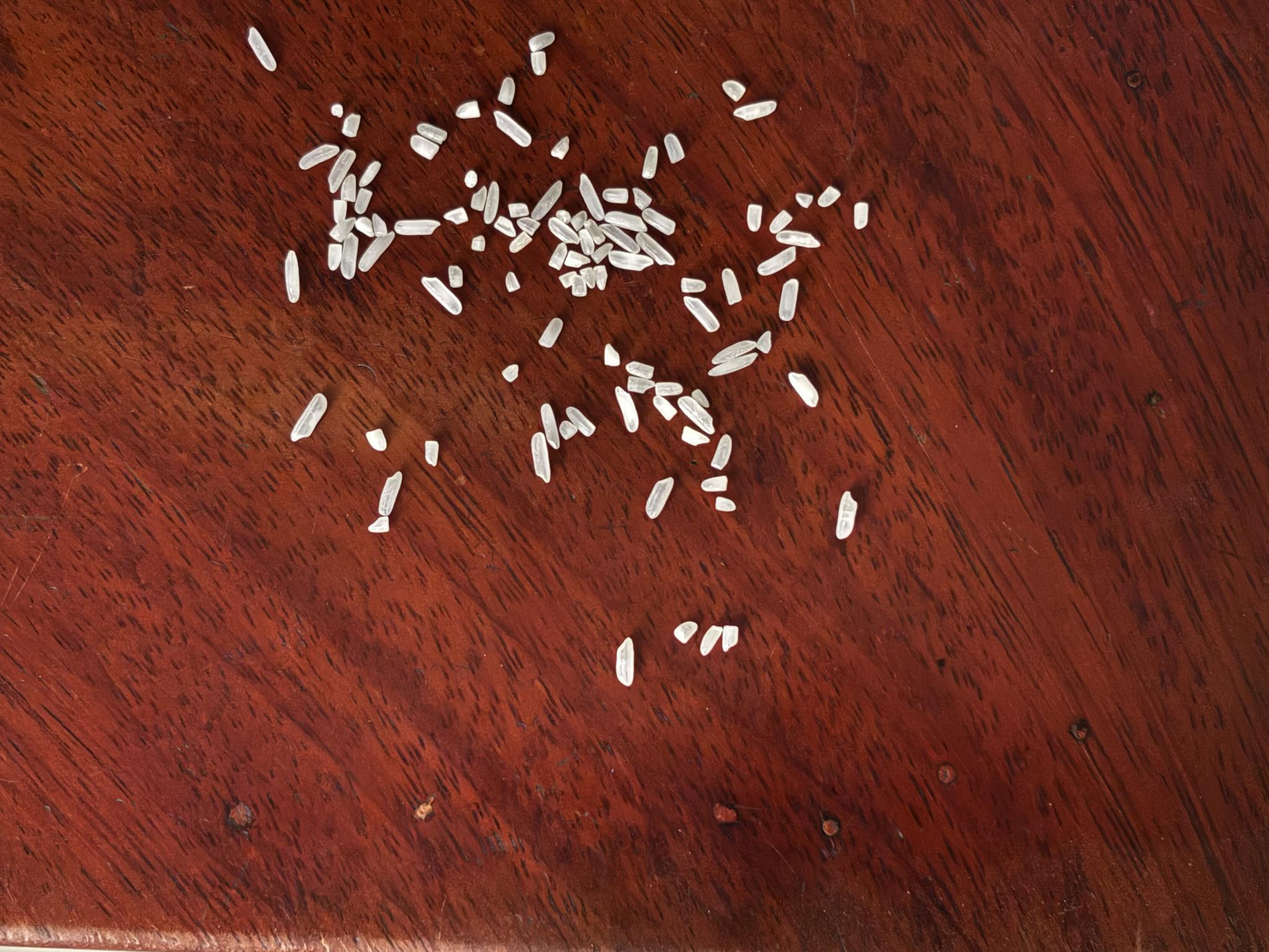Rice-th-y-nh: (708, 347, 758, 385), (290, 392, 328, 441), (420, 275, 464, 317), (682, 292, 722, 336), (634, 228, 675, 270), (574, 173, 609, 222), (711, 333, 757, 370), (676, 394, 716, 436), (358, 229, 397, 272), (830, 491, 863, 541), (757, 240, 797, 281), (611, 385, 644, 434), (492, 109, 533, 148), (607, 244, 654, 278), (525, 432, 556, 483), (642, 474, 676, 520), (610, 637, 641, 687), (277, 250, 306, 303), (374, 470, 406, 518), (530, 178, 564, 223), (733, 93, 777, 127), (393, 210, 441, 241), (773, 277, 805, 323), (335, 232, 365, 281), (776, 223, 821, 255), (787, 369, 822, 410), (599, 221, 641, 255), (326, 148, 357, 194), (535, 402, 564, 451), (247, 27, 277, 72), (298, 140, 340, 172), (605, 208, 648, 236), (479, 181, 506, 224), (717, 267, 746, 307), (640, 206, 677, 237), (708, 433, 737, 472), (547, 216, 581, 247), (565, 404, 596, 437), (697, 623, 725, 657), (661, 132, 688, 166), (409, 133, 441, 161), (638, 145, 663, 180), (538, 317, 564, 349), (329, 215, 357, 244), (672, 618, 700, 647), (416, 121, 448, 145), (495, 75, 519, 107), (651, 394, 678, 422), (626, 371, 655, 397), (768, 208, 794, 236), (721, 76, 747, 104), (625, 358, 655, 382), (680, 425, 711, 448), (653, 377, 684, 400), (527, 30, 556, 54), (547, 241, 570, 271), (338, 173, 361, 203), (816, 184, 842, 210), (358, 160, 382, 188), (454, 98, 482, 122), (719, 624, 742, 653), (744, 202, 766, 232), (850, 201, 872, 231), (700, 472, 728, 495), (352, 187, 375, 215), (323, 242, 345, 271), (493, 214, 518, 239), (508, 230, 534, 254), (583, 218, 606, 245), (340, 112, 363, 139), (591, 241, 615, 266), (630, 185, 653, 211), (680, 274, 706, 297), (527, 49, 548, 77), (468, 185, 489, 213), (364, 428, 388, 452), (516, 214, 541, 237), (753, 329, 775, 355), (329, 197, 350, 224), (602, 186, 630, 206), (422, 439, 442, 467), (601, 342, 622, 368), (564, 249, 590, 270), (443, 205, 470, 225), (445, 264, 466, 289), (551, 135, 572, 160), (370, 212, 390, 238), (592, 263, 611, 290), (354, 216, 376, 239), (577, 229, 596, 255), (690, 387, 712, 409), (714, 493, 736, 515), (569, 209, 590, 232), (569, 274, 589, 298), (506, 200, 530, 220), (579, 265, 599, 289), (558, 419, 578, 441), (557, 270, 578, 289), (501, 362, 520, 383), (503, 271, 521, 293), (368, 515, 390, 533), (794, 192, 815, 209), (463, 169, 479, 190), (470, 234, 487, 253), (555, 208, 573, 225), (330, 103, 344, 118)
